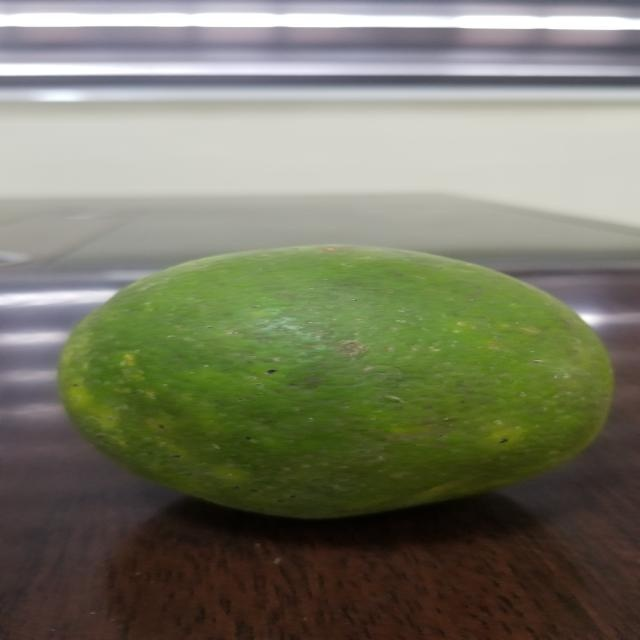agrume: (55, 223, 640, 525)
